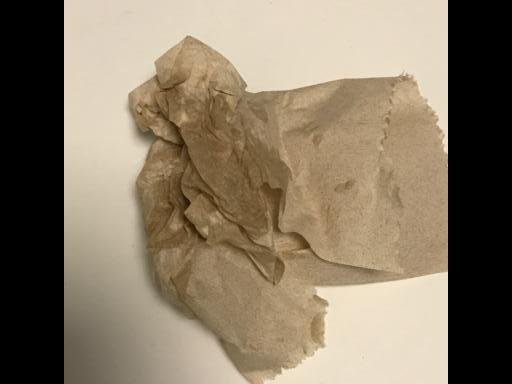trash: (128, 33, 446, 380)
